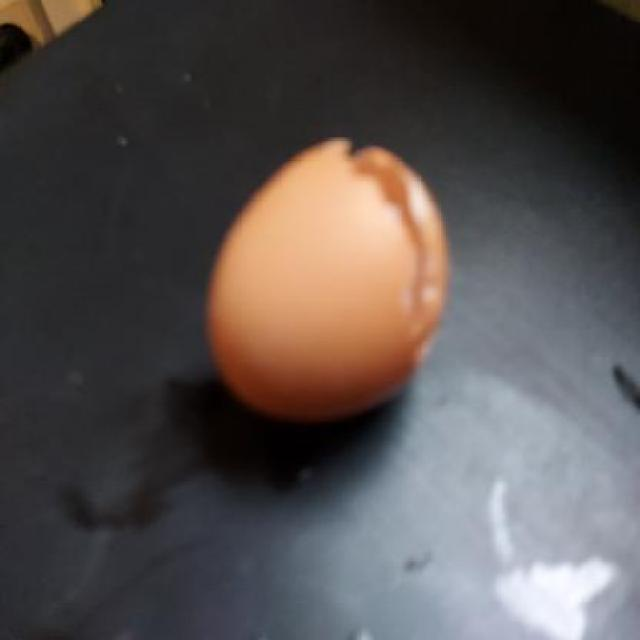biodegradable: (208, 136, 448, 422)
